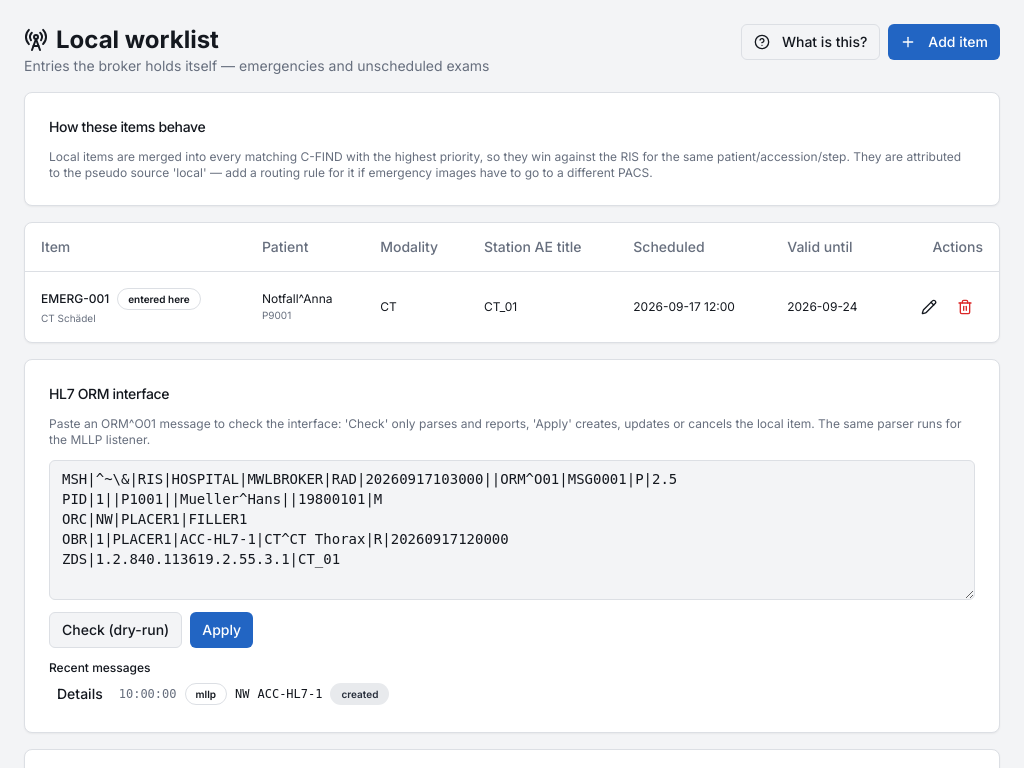
Test: LocalWorklistPage › shows parser warnings
This screenshot has width=1024, height=768.
Expected: the text "EMERG-001" is shown, [41,290,109,306]
Click the button "Check (dry-run)" at [116, 630], box [49,612,182,648]
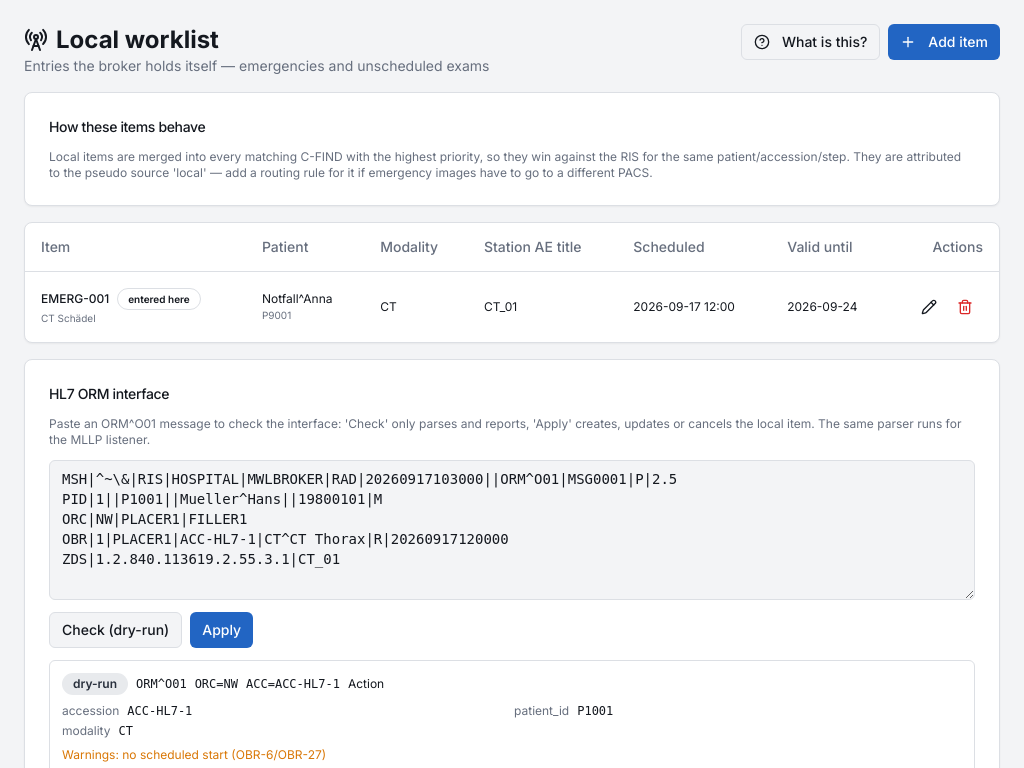
Expected: the text "Warnings: no scheduled start (OBR-6/OBR-27)" is shown, [62,746,326,762]
